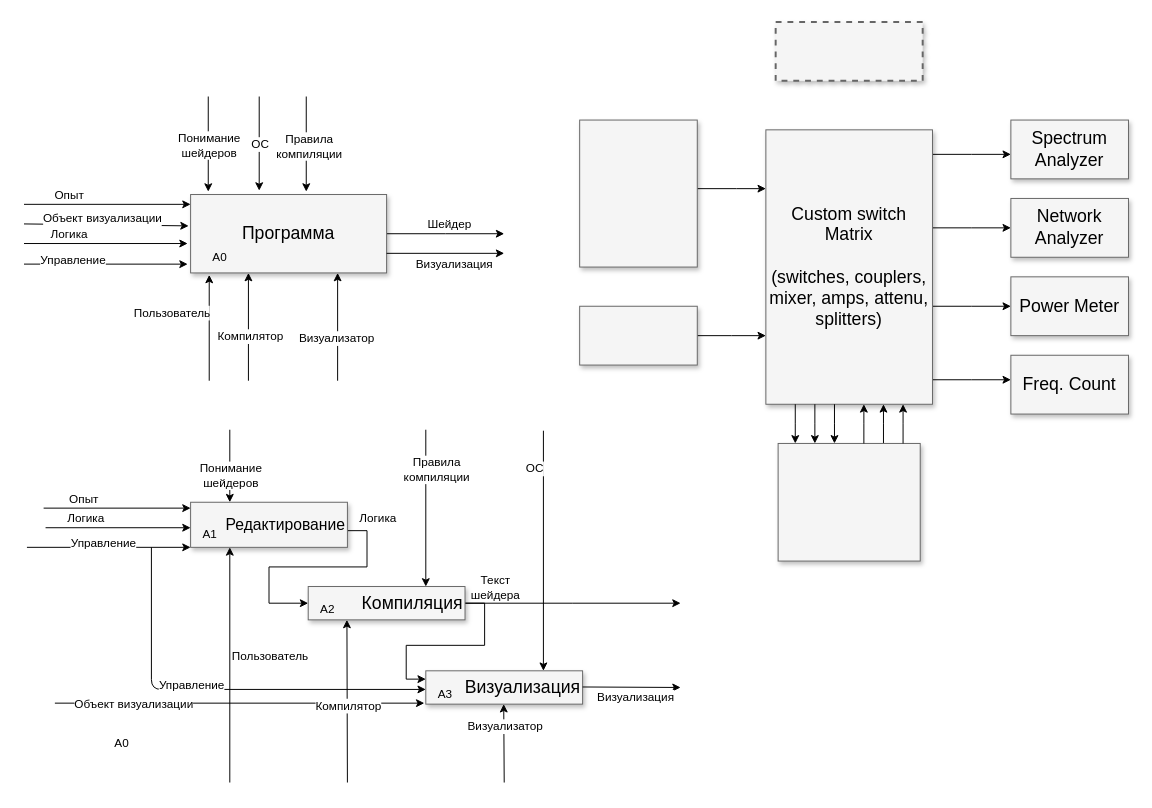
Some shapes in this 1152 by 808 pixel diagram are drawn without their labels. The centre of each missing label's shape, as x and y in pixels:
"ARB / Mod Source" goes at point (639, 336).
"DUT" goes at point (849, 503).
"Software Control" goes at point (849, 52).
"Vector Signal Generator" goes at point (639, 194).
